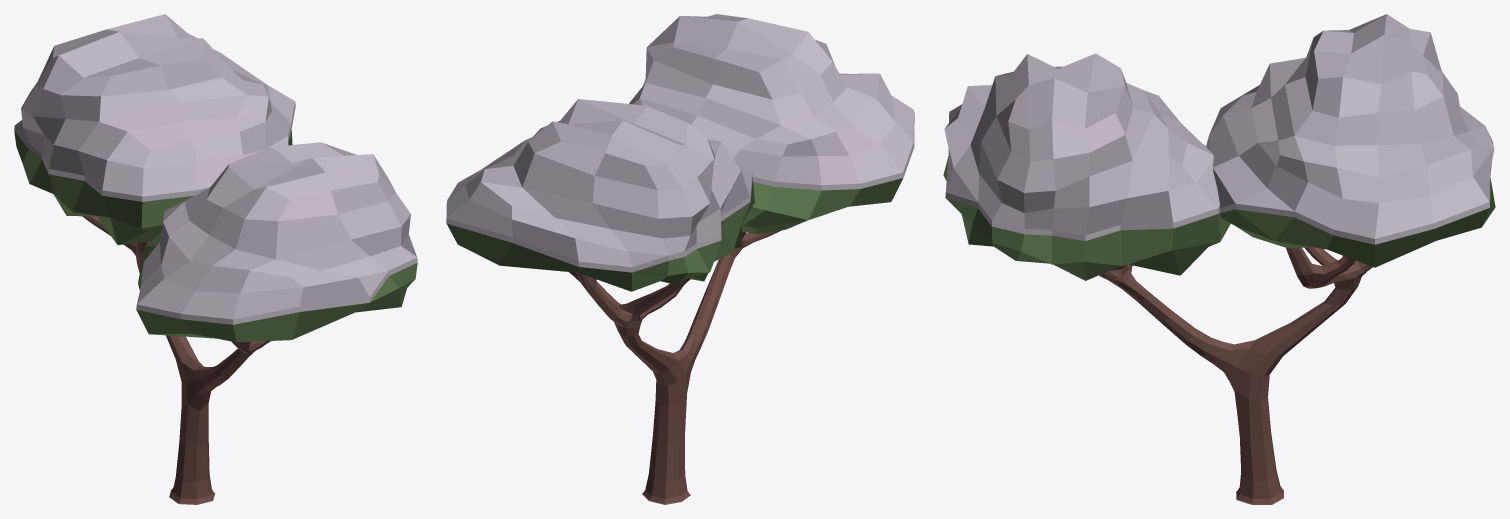
Rendered from commontree_snow_1.glb.
3 views of the same model, side by side, from view 1: azimuth 30°, elevation 25°; view 2: azimuth 150°, elevation 25°; view 3: azimuth 270°, elevation 25° (orthographic). The views are drawn at different scales.
Visible parts, largest first — view 1: CommonTree_Snow_1; view 2: CommonTree_Snow_1; view 3: CommonTree_Snow_1.
Boxes of the visible parts, x1,y1,x2,y2 form: CommonTree_Snow_1: (14,14,417,504); CommonTree_Snow_1: (446,14,914,504); CommonTree_Snow_1: (943,14,1495,504).
Size of the model in its own units: 1.89 by 2.51 by 2.77.
